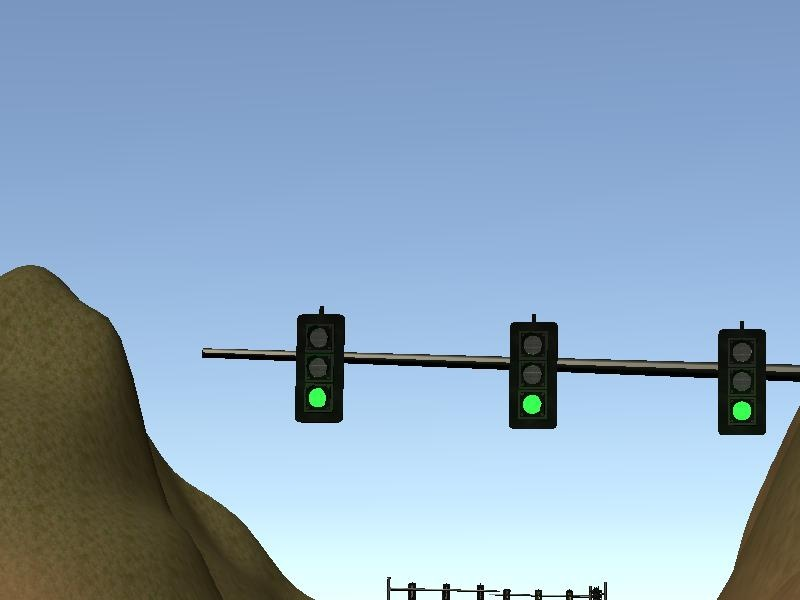GREEN: (717, 330, 767, 438), (509, 321, 559, 429), (295, 314, 345, 422)
